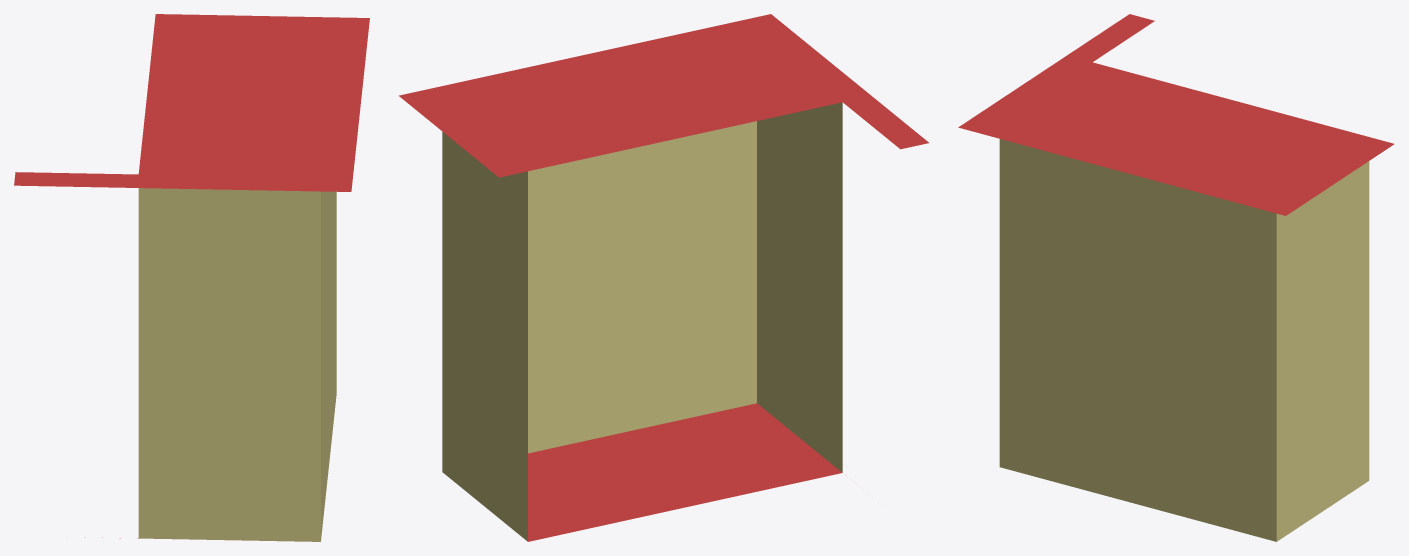
3 renders of one model, left to right at view 1: azimuth 30°, elevation 25°; view 2: azimuth 150°, elevation 25°; view 3: azimuth 270°, elevation 25°, orthographic. The views are drawn at different scales.
Bounding box in the file's own units: 7.9 × 7.22 × 6.26.
